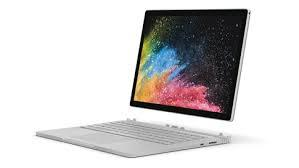Electronics: (39, 0, 286, 168)
